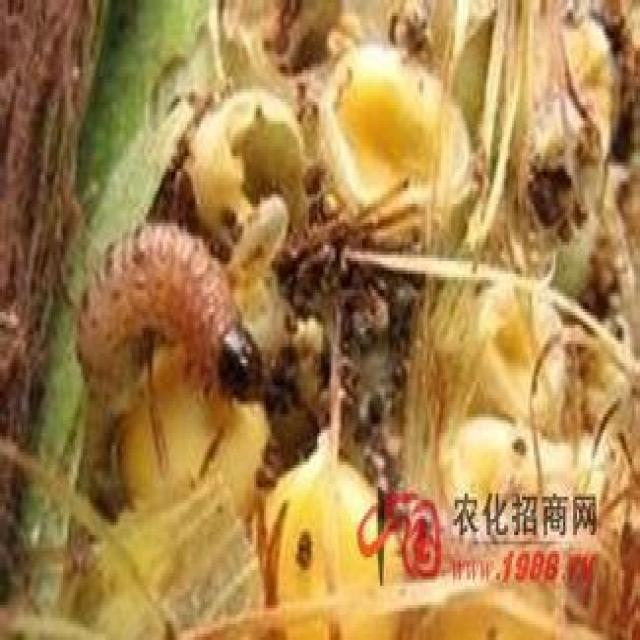peach borer: (71, 222, 254, 404)
